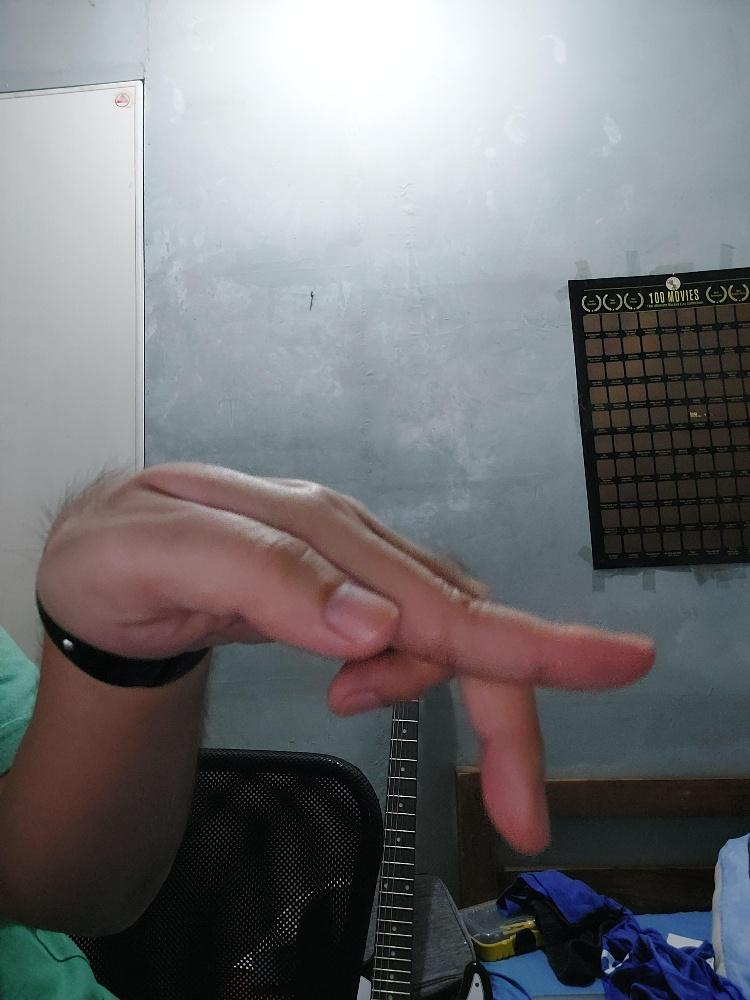p: (43, 458, 652, 852)
